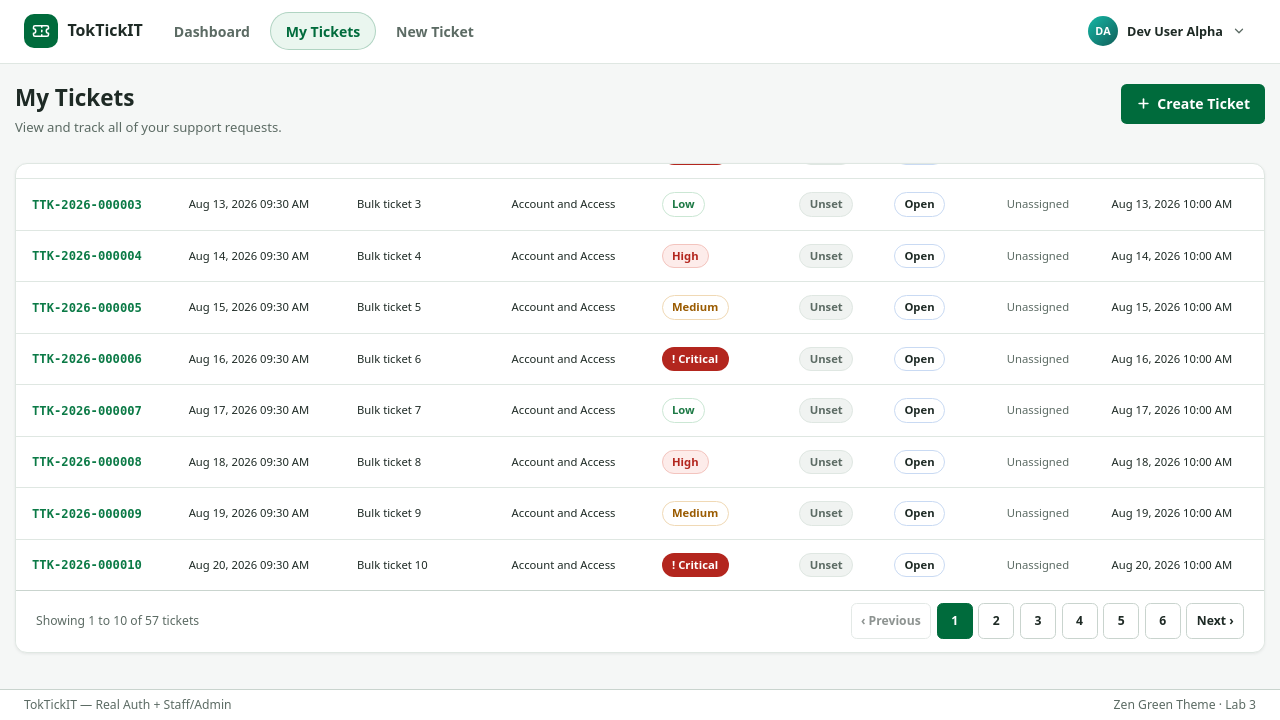
UI-14 — pagination window, showing text, bounds, scroll reset › last page of the 57 set shows the remainder and disables Next
The width and height of the screenshot is (1280, 720).
(page scrolled)
Check: the heading "My Tickets" is shown, box [15,82,134,113]
Check: the text "Showing 1 to 10 of 57 tickets" is shown, box [36,612,199,631]
Click the button "6" at (1163, 622), box [1145,604,1181,640]
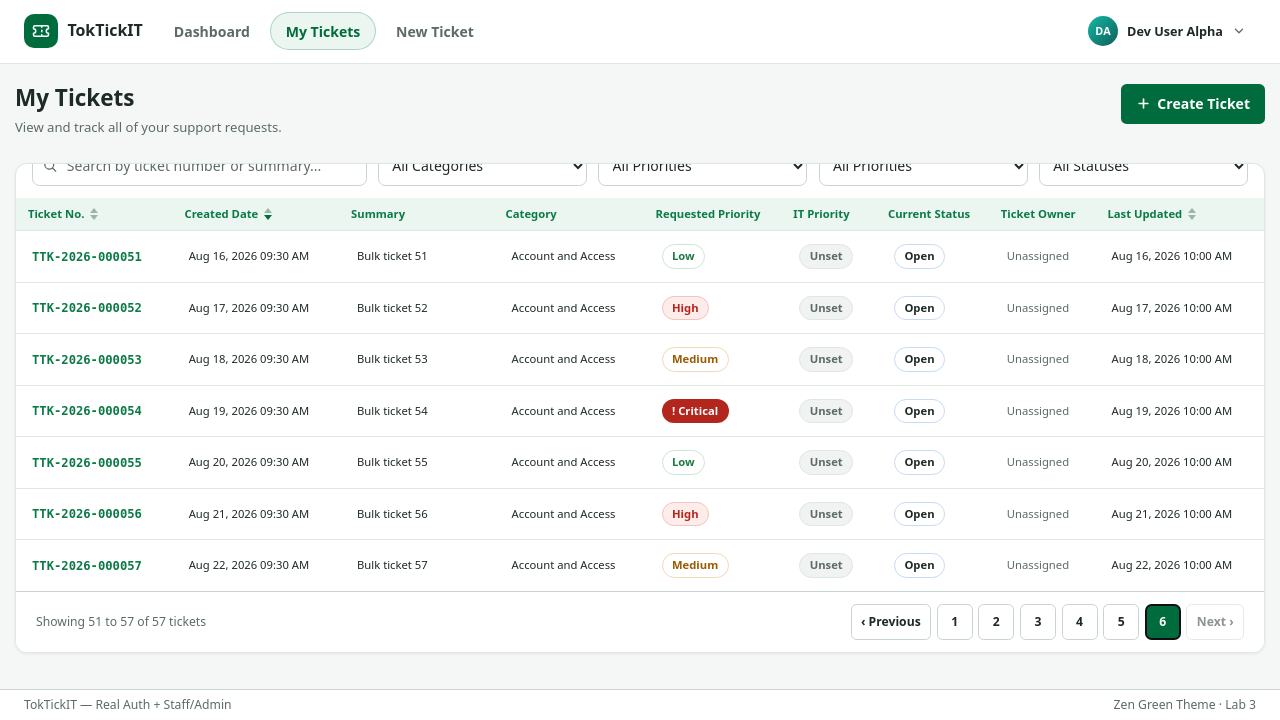
Check: the text "Showing 51 to 57 of 57 tickets" is shown, box [36,613,206,631]
Check: the button "Next ›" is disabled, box [1186,604,1244,640]
